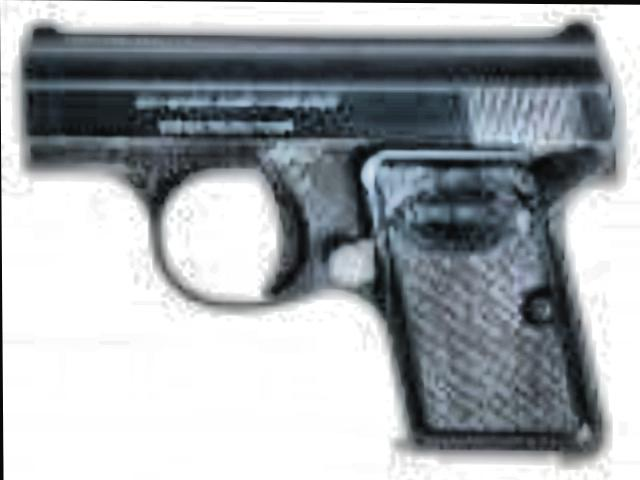pistol: (12, 8, 615, 452)
